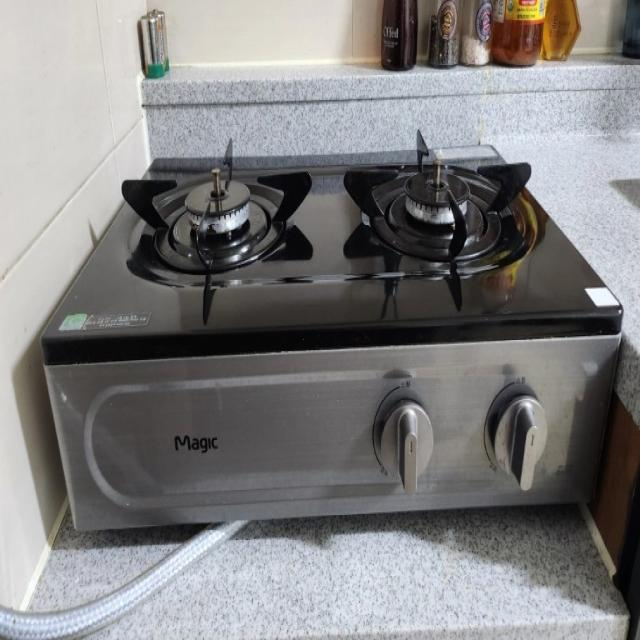knob_OFF: (330, 119, 560, 292), (136, 127, 345, 311)
